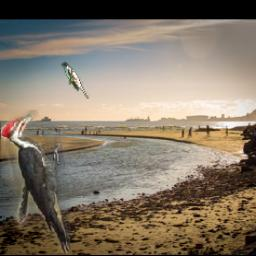Cuckoo: (62, 63, 90, 100)
Woodpecker: (1, 110, 70, 253)
